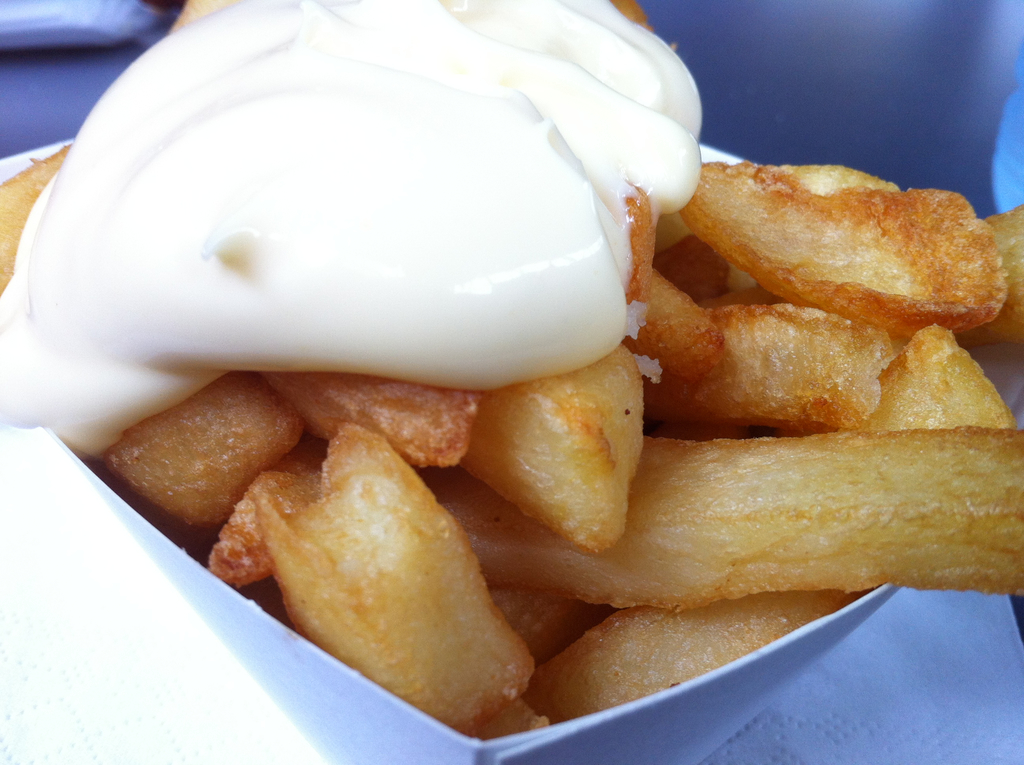French fries: (0, 0, 1023, 747)
